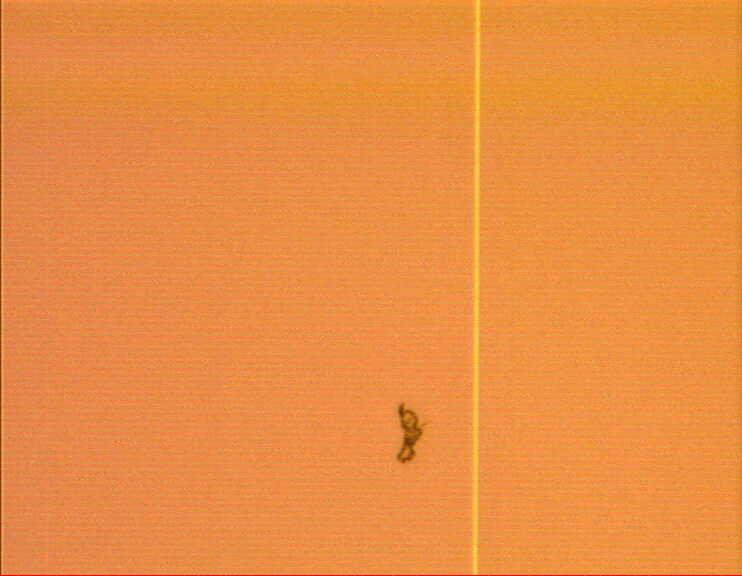PIQ PARTICLE: (388, 400, 426, 467)
